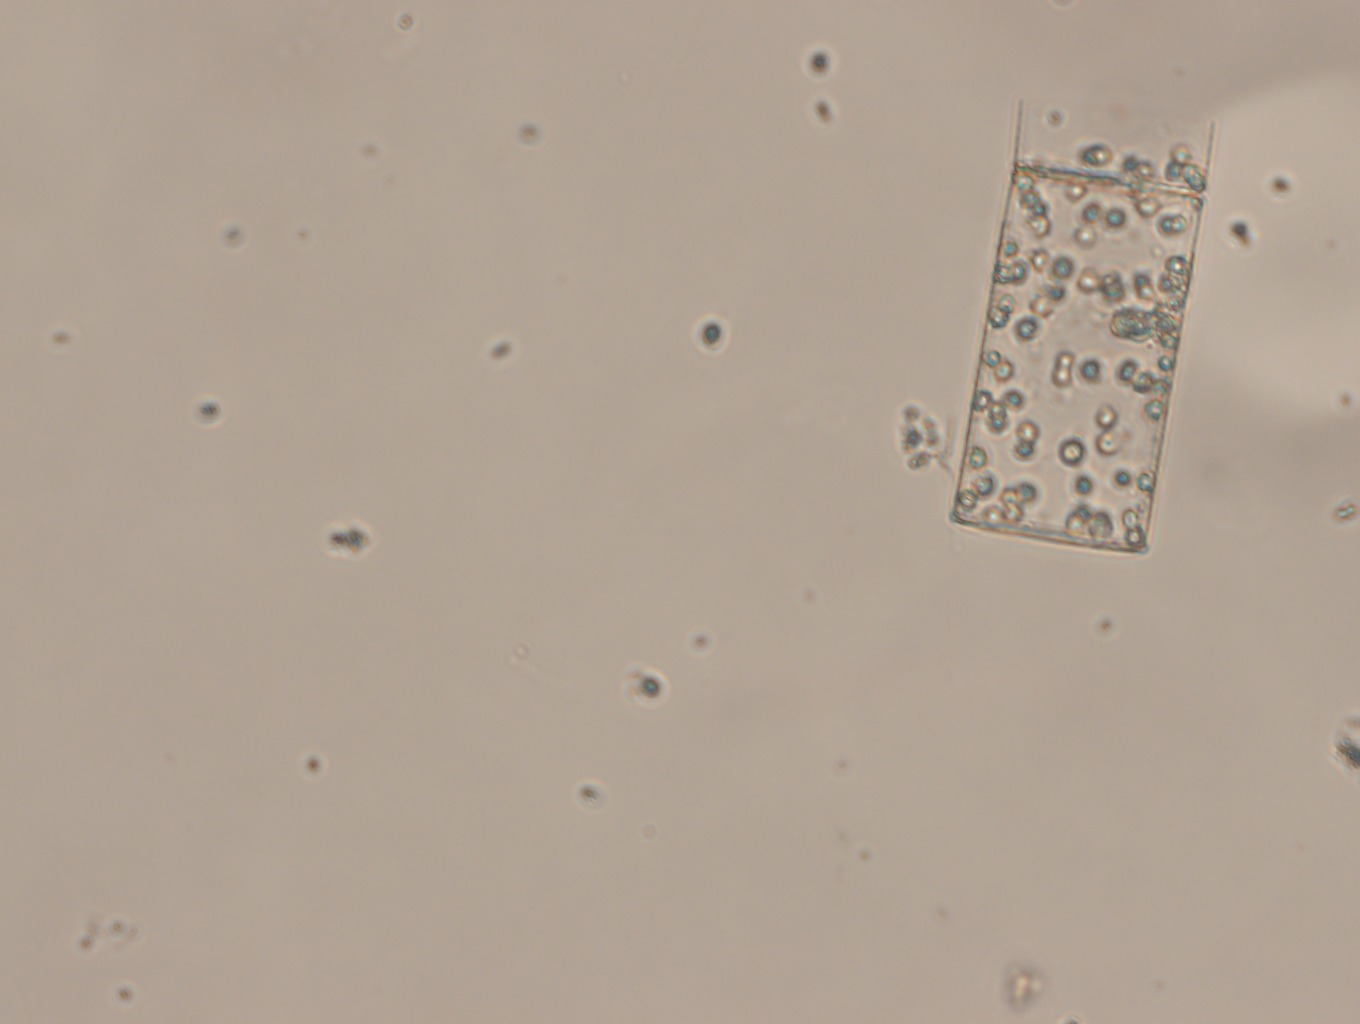guinardia flaccida: (947, 80, 1223, 568)
